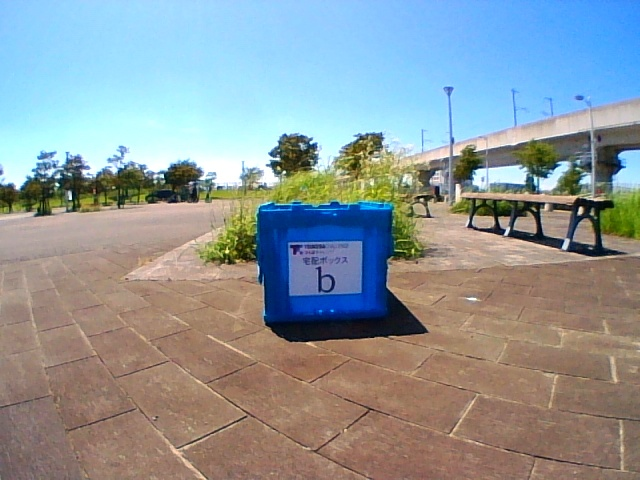blue_box: (264, 205, 385, 314)
tag_b: (290, 243, 360, 294)
